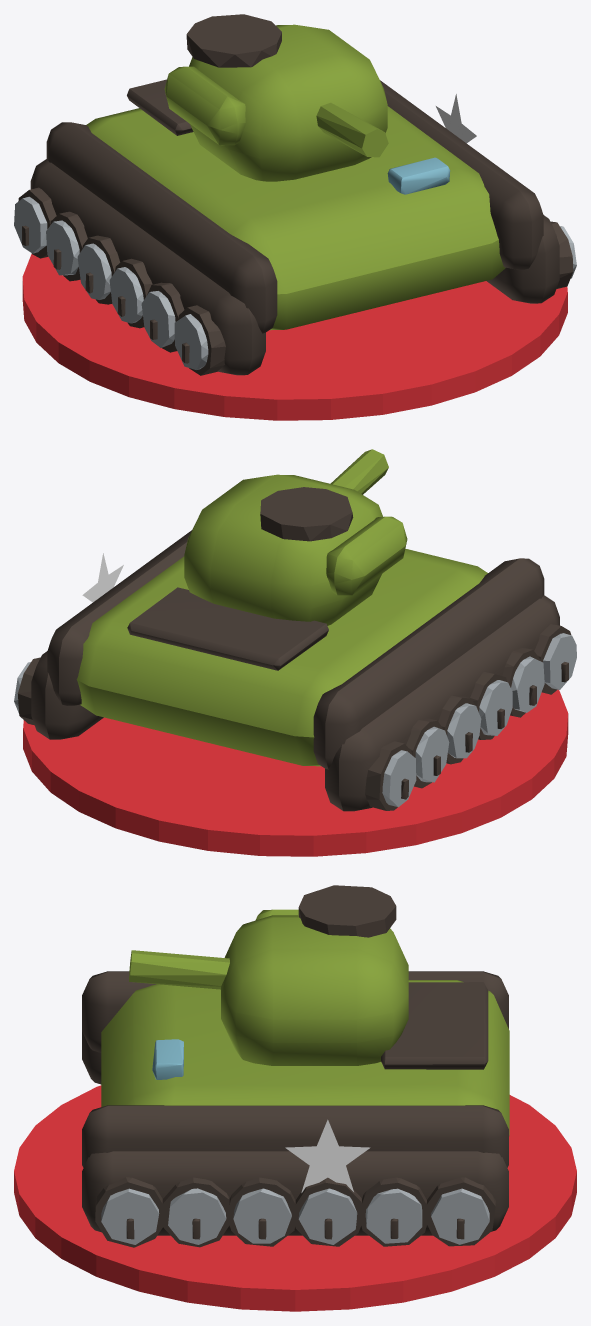
The model's file is usa_infantry_lod0.glb.
The picture shows the model from 3 angles, top to bottom: view 1: azimuth 30°, elevation 25°; view 2: azimuth 150°, elevation 25°; view 3: azimuth 270°, elevation 25°; orthographic projection. The views are drawn at different scales.
Parts seen in each view (by area): view 1: body_hull, base_pedestal; view 2: body_hull, base_pedestal; view 3: body_hull, base_pedestal.
Part boxes in pixels (bbox=[...]): body_hull: bbox=[14, 14, 576, 375]; base_pedestal: bbox=[22, 254, 567, 420]; body_hull: bbox=[14, 449, 576, 811]; base_pedestal: bbox=[23, 690, 568, 856]; body_hull: bbox=[82, 885, 509, 1247]; base_pedestal: bbox=[14, 1085, 576, 1311].
Size of the model in its own units: 0.78 by 0.412 by 0.78.
